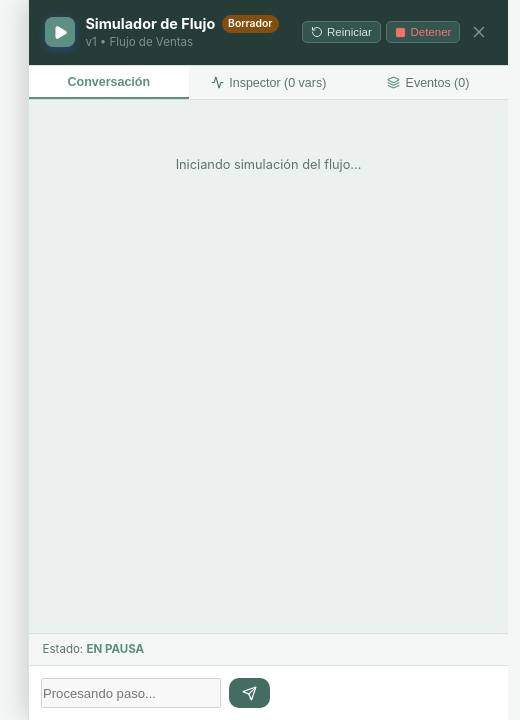
Test case: FlowSimulatorDrawer Component › allows injecting a custom initial variable in the Inspector tab
Later steps or results of the test are not shown.
Step 1. Click the button "Inspector (0 vars)" → x=269, y=83, box x1=189 y1=66 x2=348 y2=99
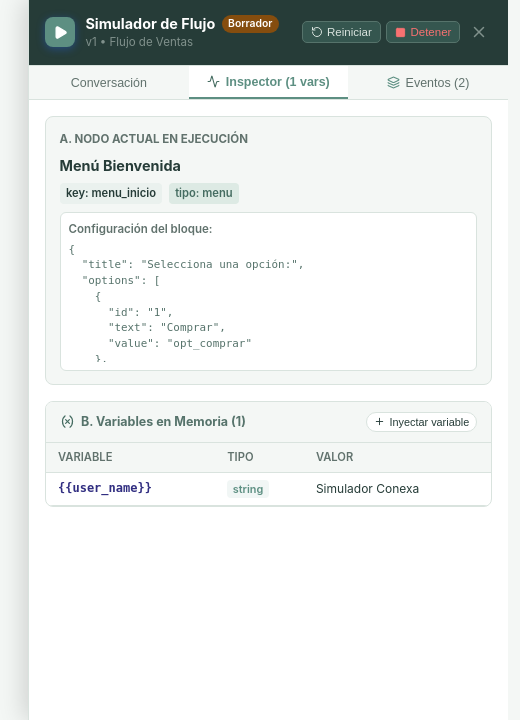
Step 2. Click the button "Inyectar variable" → x=422, y=422, box x1=366 y1=412 x2=477 y2=432
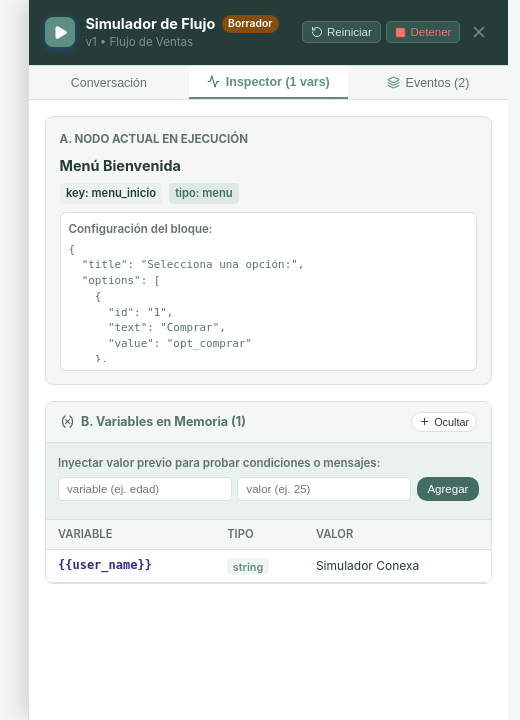
Step 3. Type "edad_cliente" into the field with placeholder "variable (ej. edad)" → x=145, y=489, box x1=58 y1=477 x2=232 y2=501
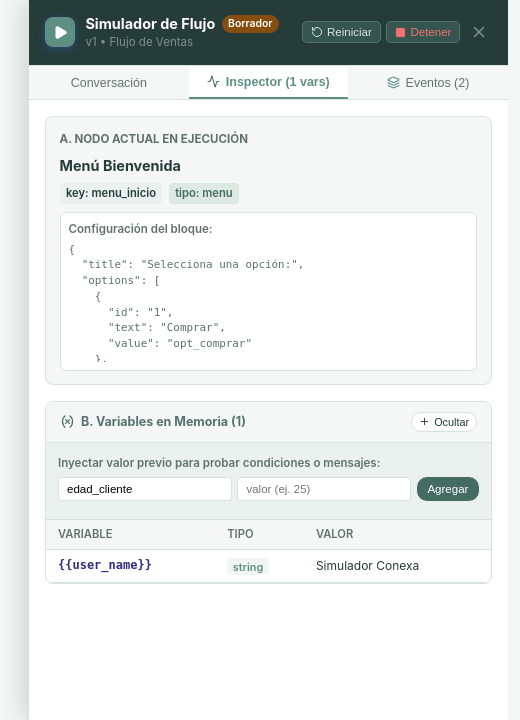
Step 4. Type "30" into the field with placeholder "valor (ej. 25)" → x=324, y=489, box x1=237 y1=477 x2=411 y2=501
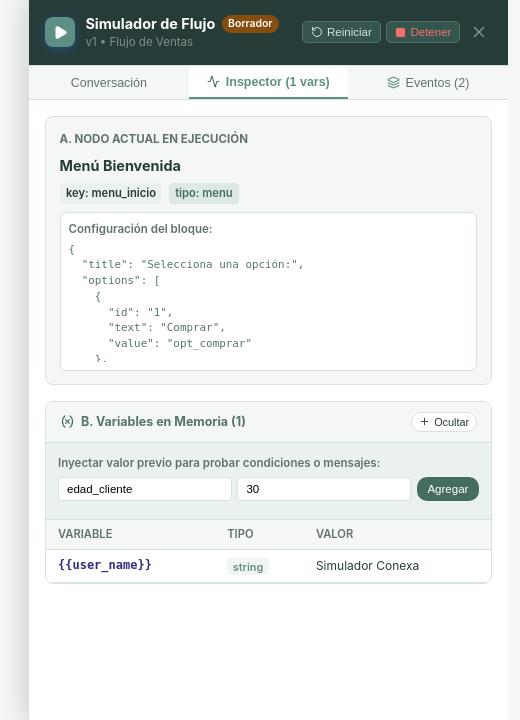
Step 5. Click the button "Agregar" → x=448, y=489, box x1=417 y1=477 x2=479 y2=501
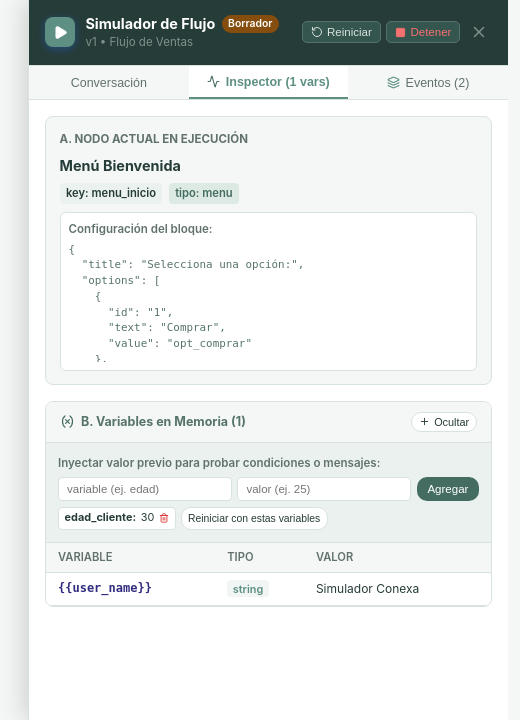
Now the text "edad_cliente:" is shown, box x1=65 y1=510 x2=136 y2=526
Now the text "30" is shown, box x1=141 y1=510 x2=154 y2=524
